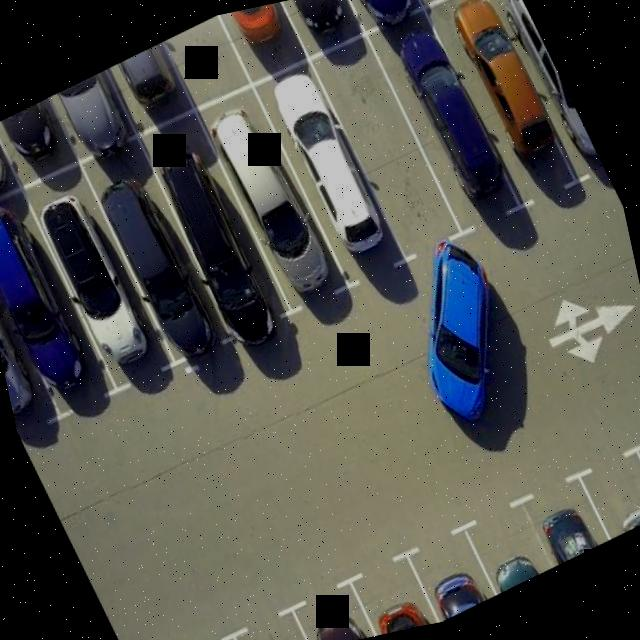car: (251, 44, 414, 300), (367, 0, 529, 245), (129, 96, 290, 342), (188, 69, 348, 314), (76, 122, 231, 370), (23, 148, 172, 382), (426, 0, 585, 218), (0, 176, 125, 427), (476, 0, 602, 185), (0, 199, 64, 440), (46, 64, 146, 172), (458, 493, 561, 597), (404, 520, 504, 624), (343, 544, 443, 638), (518, 474, 614, 570), (102, 39, 194, 136), (0, 92, 85, 195), (219, 0, 309, 87), (571, 446, 640, 543), (283, 574, 383, 640), (278, 0, 371, 69), (225, 591, 324, 640), (337, 0, 425, 36), (0, 121, 26, 218), (627, 422, 640, 515)
free: (310, 24, 468, 273), (158, 10, 255, 111), (399, 0, 479, 12)
